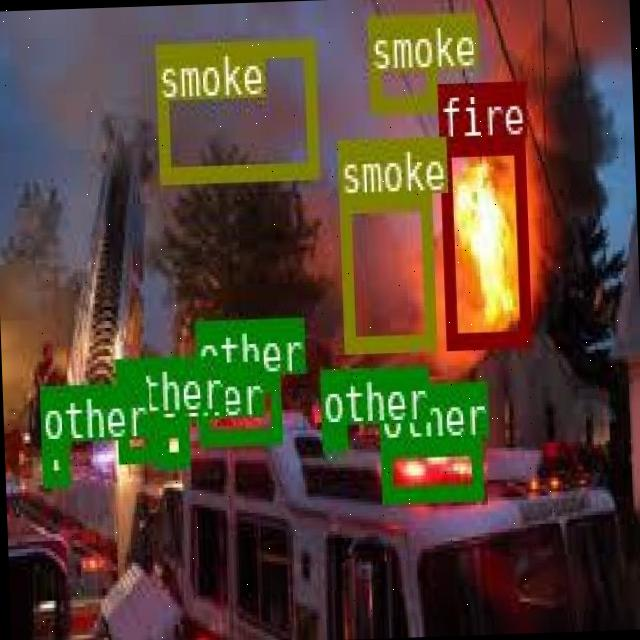fire: (438, 136, 528, 346)
smoke: (154, 36, 317, 180), (338, 192, 434, 350), (366, 14, 434, 108)
